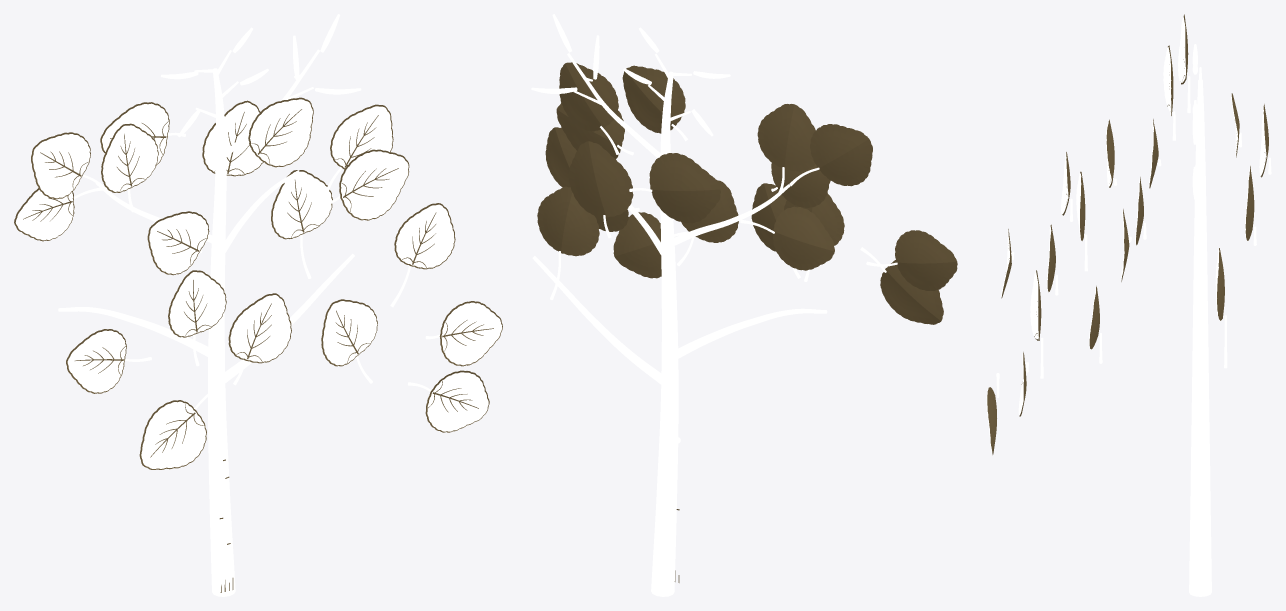
The model's file is aspen.glb.
3 views of the same model, side by side, from view 1: azimuth 30°, elevation 25°; view 2: azimuth 150°, elevation 25°; view 3: azimuth 270°, elevation 25° (orthographic). The views are drawn at different scales.
Visible parts, largest first — view 1: BR_trunk, LEAF_12, LEAF_06, LEAF_09, LEAF_08, LEAF_13, LEAF_16, LEAF_00, LEAF_14, LEAF_17, LEAF_03, LEAF_05 (+9 smaller); view 2: BR_trunk, LEAF_04, LEAF_10, LEAF_00, LEAF_13, LEAF_01, LEAF_02, LEAF_05, LEAF_11, LEAF_09, LEAF_17, LEAF_06 (+10 smaller); view 3: BR_trunk, LEAF_15, LEAF_01, LEAF_13, LEAF_00, LEAF_17, LEAF_10, LEAF_07, LEAF_04, LEAF_03, LEAF_14, LEAF_08 (+1 smaller).
Part boxes in pixels (x1,y1,x2,y2): BR_trunk: (208,68,235,596); LEAF_12: (339,149,409,220); LEAF_06: (139,400,206,469); LEAF_09: (248,97,313,167); LEAF_08: (228,293,291,363); LEAF_13: (271,170,332,239); LEAF_16: (439,301,502,366); LEAF_00: (31,132,90,199); LEAF_14: (394,203,455,269); LEAF_17: (425,370,489,432); LEAF_03: (147,211,209,275); LEAF_05: (66,329,126,393); BR_trunk: (651,71,678,596); LEAF_04: (649,153,720,223); LEAF_10: (568,141,633,217); LEAF_00: (810,124,872,186); LEAF_13: (537,186,599,256); LEAF_01: (757,104,815,171); LEAF_02: (773,206,834,270); LEAF_05: (895,230,957,290); LEAF_11: (559,62,618,131); LEAF_09: (622,65,685,133); LEAF_17: (613,212,661,278); LEAF_06: (880,260,943,324); BR_trunk: (1189,80,1211,596); LEAF_15: (1030,270,1041,340); LEAF_01: (1163,45,1173,115); LEAF_13: (1215,248,1224,320); LEAF_00: (1178,14,1188,84); LEAF_17: (986,387,996,454); LEAF_10: (1245,166,1254,240); LEAF_07: (1076,171,1085,240); LEAF_04: (1259,104,1268,177); LEAF_03: (1106,119,1114,187); LEAF_14: (1089,286,1099,349); LEAF_08: (1046,224,1055,291).
Size of the model in its own units: 3.16 by 4.08 by 1.94.
